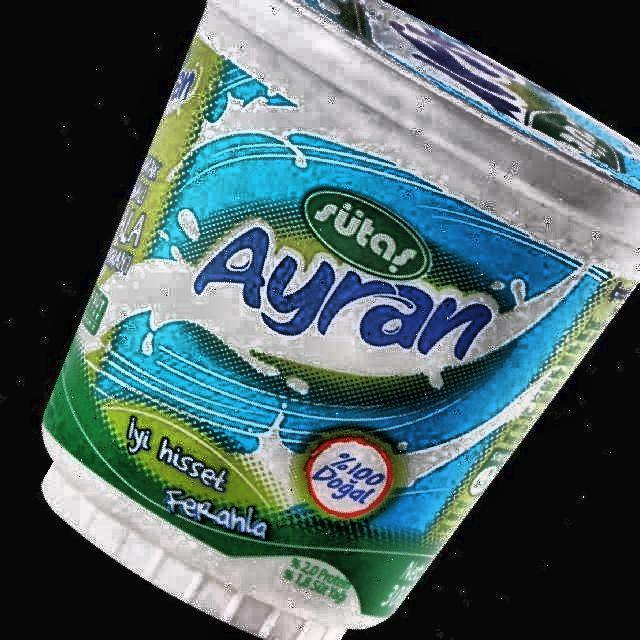plastic: (44, 0, 640, 640)
